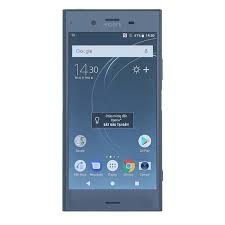sony: (57, 7, 167, 212)
